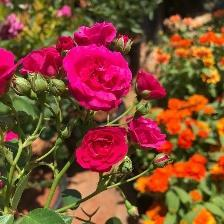rose: (63, 45, 135, 113), (74, 126, 131, 176)
